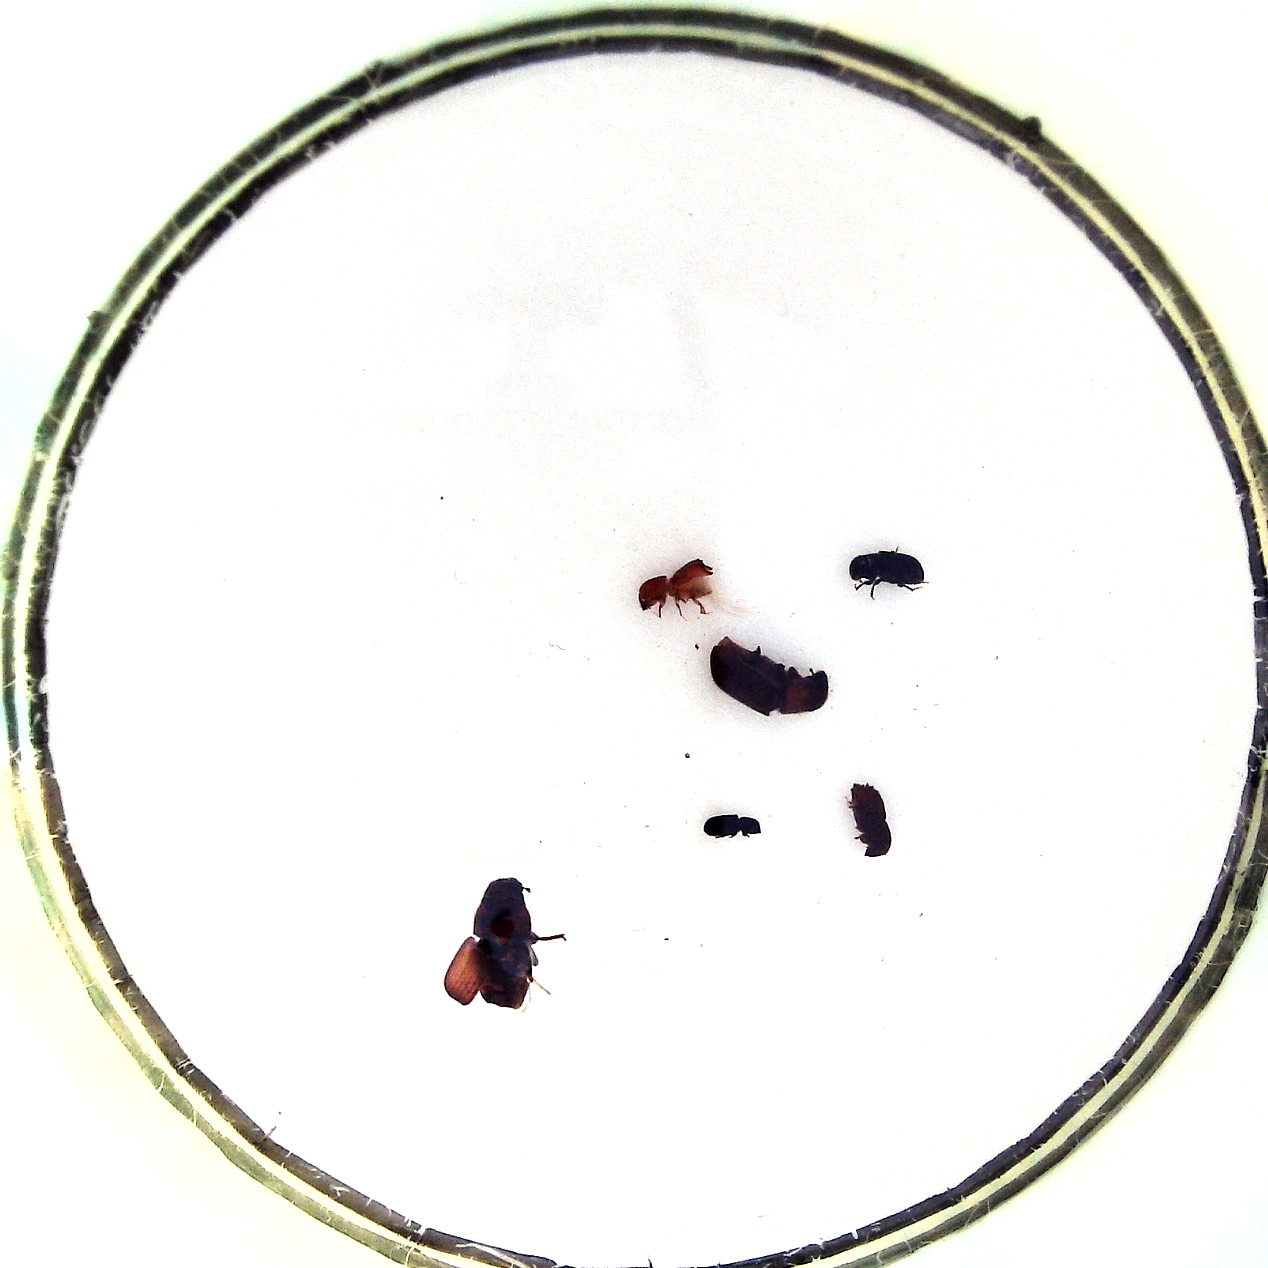Leconte: (441, 876, 556, 1011), (708, 634, 833, 719)
Linnaeus: (843, 778, 895, 860)
acuminatus: (635, 559, 726, 620)
armandi: (844, 545, 931, 596)
coleoptera: (703, 807, 762, 842)
